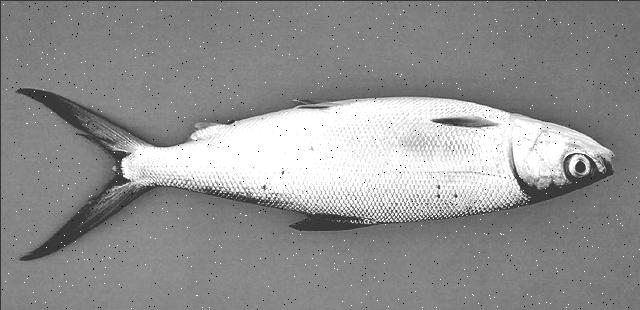Mulut: (578, 116, 632, 194)
Sirip Anal: (182, 110, 238, 150)
Sirip Dada: (428, 102, 500, 138)
Sirip Ekor: (5, 66, 151, 272)
Sirip Perut: (283, 84, 361, 125)
Sirip Punggung: (276, 187, 382, 251)
